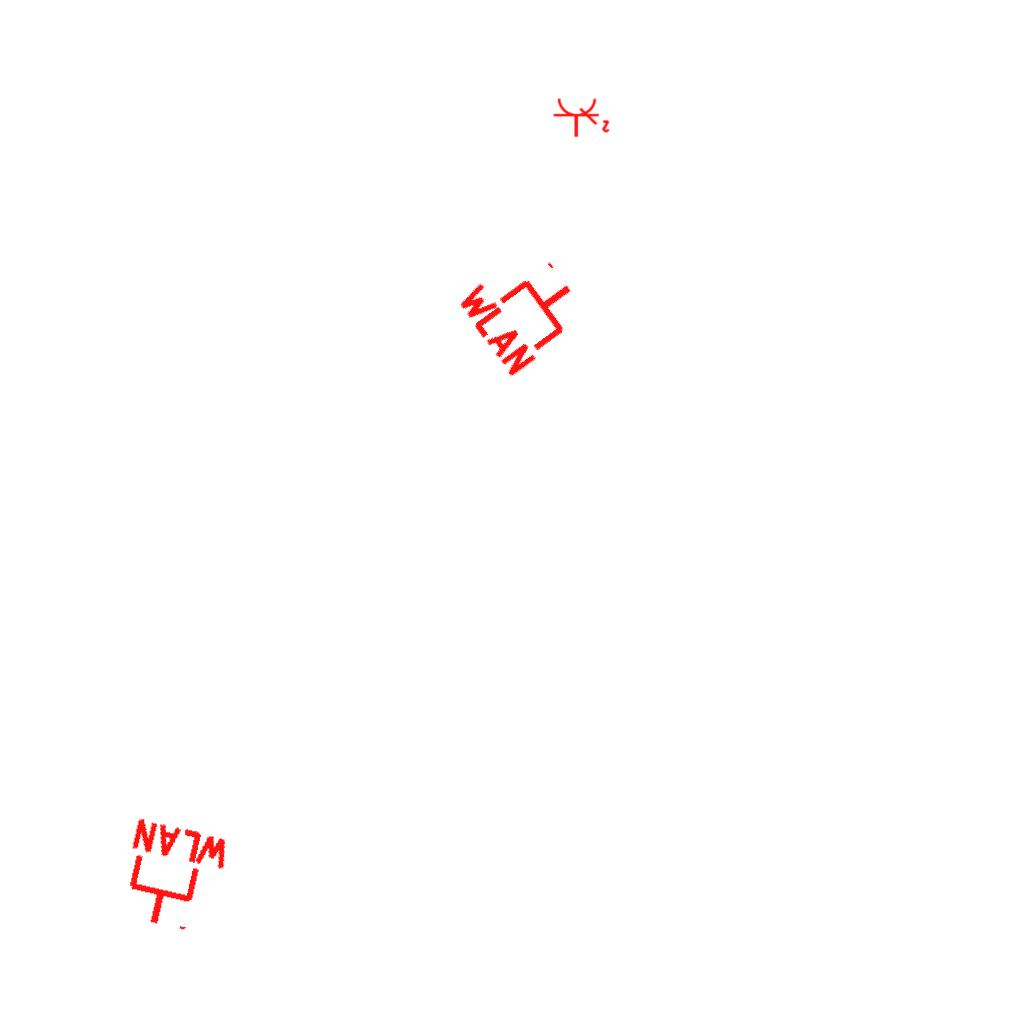Schukosteckdose_mehrfach: (551, 96, 611, 140)
WLAN: (451, 236, 598, 382), (111, 815, 236, 941)
